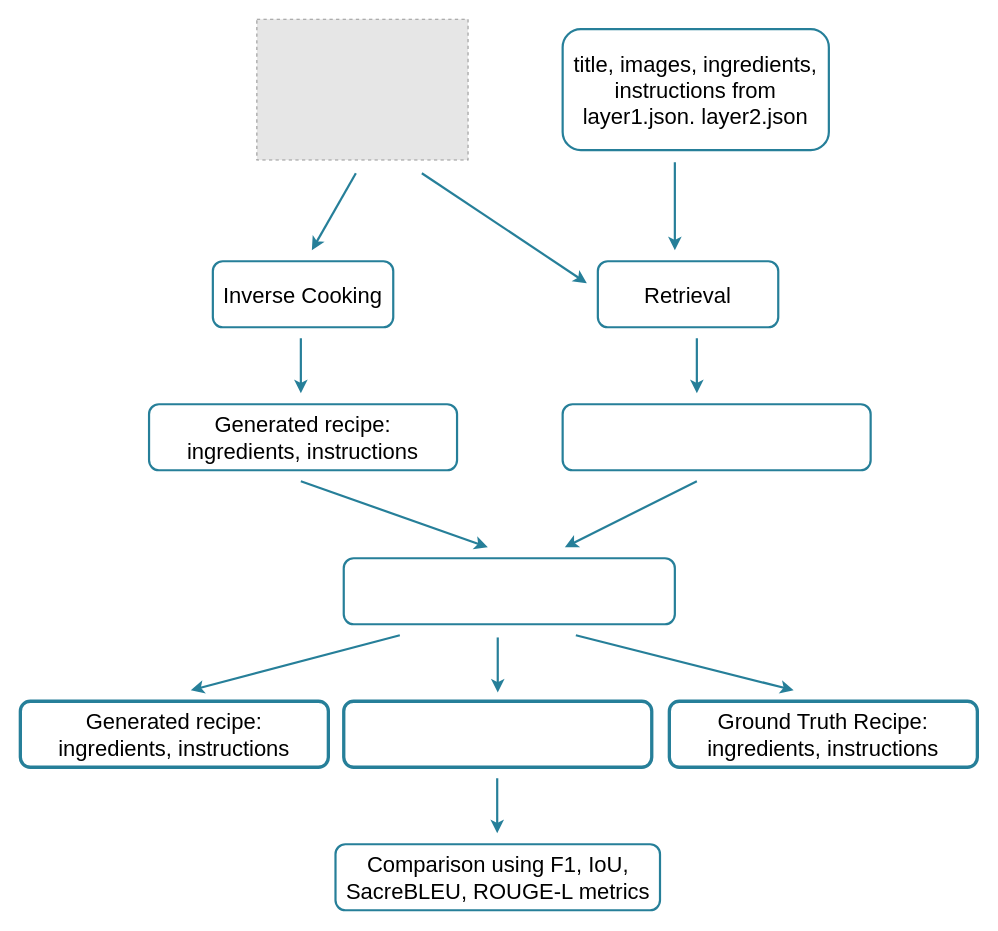
The diagram is 998 pixels wide and 931 high, and some of its shapes have lost their labels. Grey dashed boxes stand in for pictures. The centre of each missing label's shape, as x and y in pixels:
"Pair of ids (pred, groundtruth)" goes at pixel 716 437.
"Preprocessing (Make recipes easy to compare)" goes at pixel 508 591.
"Retrieved Recipe: ingredients, instructions" goes at pixel 497 733.
